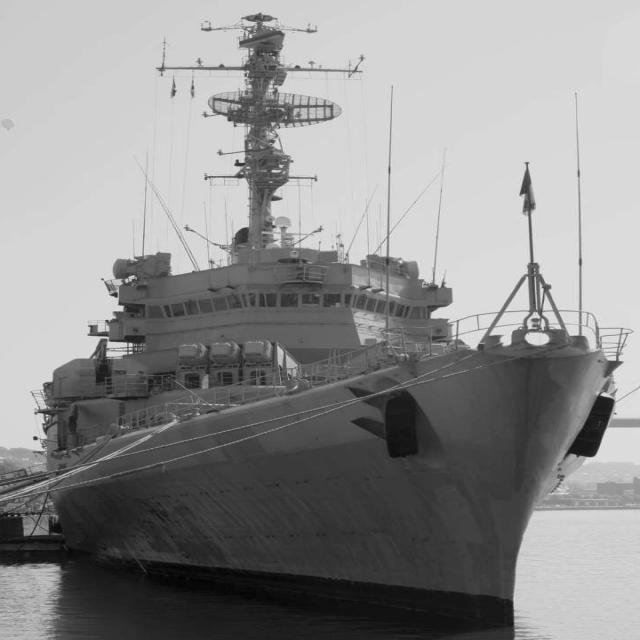Portanaves: (7, 1, 637, 632)
